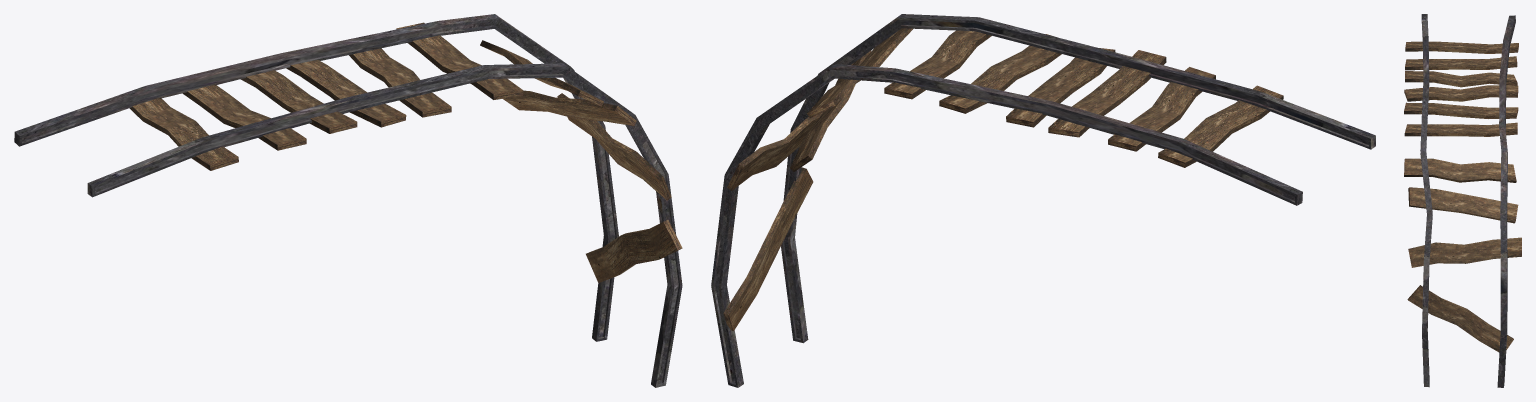
Rendered from rails_curved.fbx.
The picture shows the model from 3 angles, left to right: view 1: azimuth 30°, elevation 25°; view 2: azimuth 150°, elevation 25°; view 3: azimuth 270°, elevation 25°; orthographic projection. The views are drawn at different scales.
Visible parts, largest first — view 1: rails, planks; view 2: rails, planks; view 3: planks, rails.
Boxes of the visible parts, x1=… form: rails: x1=14, y1=14, x2=682, y2=387; planks: x1=129, y1=22, x2=682, y2=282; rails: x1=711, y1=14, x2=1375, y2=387; planks: x1=723, y1=28, x2=1283, y2=331; planks: x1=1404, y1=41, x2=1521, y2=352; rails: x1=1420, y1=14, x2=1515, y2=387.
Bounding box in the file's own units: 11492 × 6703 × 3297.
Materials: 2 (2 with a texture image).
